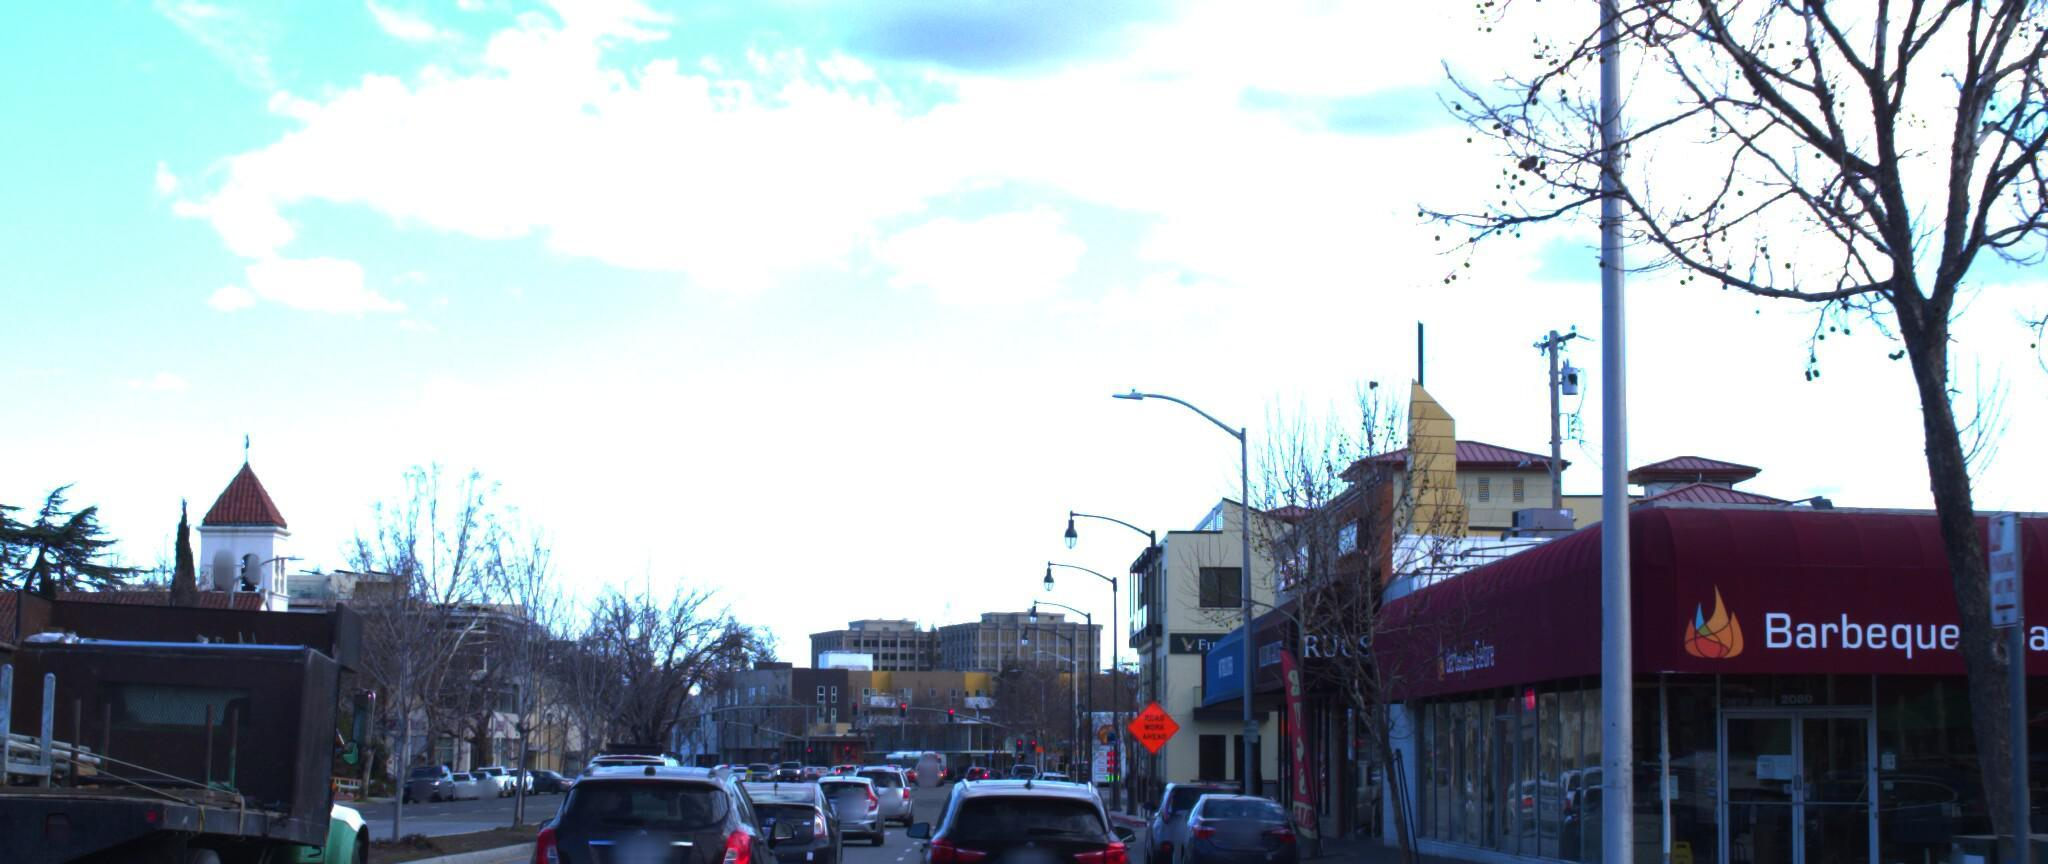car: (507, 750, 801, 864), (912, 758, 1145, 864), (1156, 769, 1304, 864), (711, 764, 850, 864), (1135, 757, 1249, 861), (814, 765, 900, 843)
truck: (0, 508, 434, 864), (0, 649, 39, 829)
